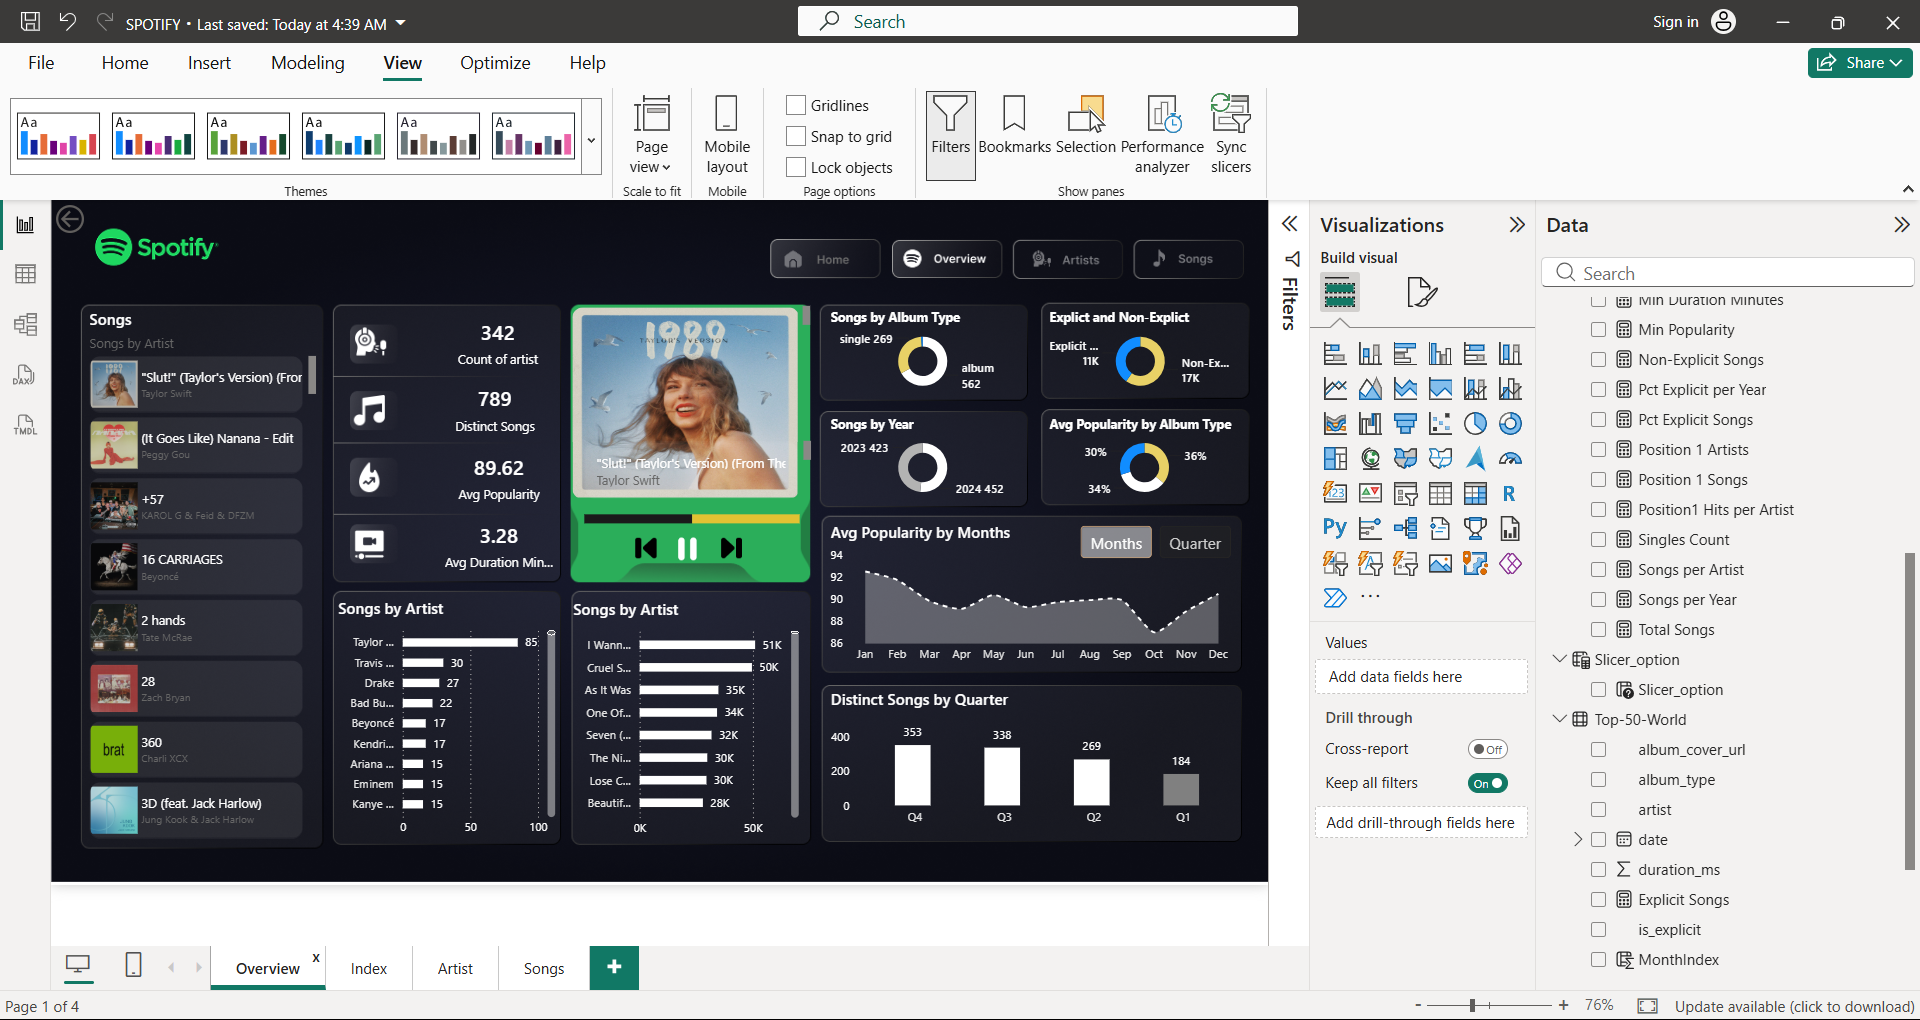

The page's visual inventory and layout, read from the dashboard file:
{"tool":"powerbi","page":{"name":"Overview","canvas":[1280,720],"ordinal":0},"visuals":[{"type":"clusteredBarChart","title":"Songs by Artist","fields":{"Category":["Top-50-World.artist"],"Y":["_Measures.Distinct Songs"]},"box":[297,417.8,238.3,260.1],"z":0},{"type":"clusteredBarChart","title":"Songs by Artist","fields":{"Y":["Sum(Top-50-World.popularity)"],"Category":["Top-50-World.song"]},"box":[544.1,419.8,247.3,259.4],"z":1000},{"type":"areaChart","fields":{"Y":["_Measures.Avg Popularity"],"Category":["Top-50-World.Months"]},"box":[815.4,338.1,431.3,157.9],"z":2000},{"type":"advancedSlicerVisual","fields":{"Values":["Slicer_option.Slicer_option"]},"box":[1077.6,338.1,169,44.7],"z":3000},{"type":"donutChart","title":"Songs by Album Type","fields":{"Category":["Top-50-World.album_type"],"Y":["_Measures.Distinct Songs"]},"box":[815.4,114.4,203.8,93.2],"z":4000},{"type":"donutChart","title":"Explict and Non-Explict","fields":{"Y":["_Measures.Non-Explicit Songs","Top-50-World.Explicit Songs"]},"box":[1045.3,114.4,201.4,93.2],"z":5000},{"type":"donutChart","title":"Songs by Year","fields":{"Category":["Top-50-World.Year"],"Y":["_Measures.Distinct Songs"]},"box":[815.4,226.2,203.8,93.2],"z":6000},{"type":"donutChart","title":"Avg Popularity by Album Type","fields":{"Category":["Top-50-World.album_type"],"Y":["_Measures.Avg Popularity"]},"box":[1045.3,226.2,210.1,93.2],"z":7000},{"type":"clusteredColumnChart","fields":{"Category":["Top-50-World.Qtr"],"Y":["_Measures.Distinct Songs"]},"box":[815.4,514.6,440,152.9],"z":8000},{"type":"card","fields":{"Values":["_Measures.Distinct Songs"]},"box":[406.4,184,121.8,70.8],"z":9000},{"type":"card","fields":{"Values":["Count(Top-50-World.artist)"]},"box":[406.4,114.4,128,69.6],"z":10000},{"type":"actionButton","box":[0,0,100,40],"z":11000},{"type":"card","fields":{"Values":["_Measures.Avg Duration Minutes"]},"box":[406.6,328.2,130.3,68.8],"z":12000},{"type":"card","fields":{"Values":["_Measures.Avg Popularity"]},"box":[406.4,254.8,130.5,73.3],"z":13000},{"type":"image","box":[317,275.9,46,31.1],"z":14000},{"type":"image","box":[317,343.1,36,39.8],"z":15000},{"type":"image","box":[317,205.1,36,32.3],"z":16000},{"type":"image","box":[318.2,133,36,32.3],"z":17000},{"type":"advancedSlicerVisual","title":"Songs","fields":{"Values":["Top-50-World.song"]},"box":[541.6,106.5,262.9,212.9],"z":18000},{"type":"advancedSlicerVisual","title":"Songs","fields":{"Values":["Top-50-World.song"]},"box":[556.2,248.5,248.5,71.2],"z":19000},{"type":"advancedSlicerVisual","title":"Songs","fields":{"Values":["Top-50-World.song"]},"box":[35,114.6,248.5,564.6],"z":20000},{"type":"image","box":[611.2,353.6,28.9,25],"z":21000},{"type":"image","box":[703.2,353.6,25,25],"z":22000},{"type":"image","box":[657.2,354.9,23.7,23.7],"z":23000},{"type":"hundredPercentStackedBarChart","fields":{"Y":["_Measures.Avg Popularity","_Measures.Avg Popularity Explicit"]},"box":[556,291.8,236.6,81.5],"z":24000},{"type":"actionButton","box":[755,39.4,115.7,40.7],"z":25000},{"type":"actionButton","box":[882.5,39.4,115.7,40.7],"z":26000},{"type":"actionButton","box":[1010,39.4,115.7,40.7],"z":27000},{"type":"actionButton","box":[1137.5,39.4,115.7,40.7],"z":28000}]}

Visuals, with their boxes on the page's 1280x720 design canvas (x1, y1, x2, y2). These are canvas units, not pixel positions in the 1920x1020 screenshot, which may show the page scaled, cropped or inside an application window:
"Songs by Artist" clusteredBarChart: x1=297, y1=418, x2=535, y2=678
"Songs by Artist" clusteredBarChart: x1=544, y1=420, x2=791, y2=679
areaChart - _Measures.Avg Popularity x Top-50-World.Months: x1=815, y1=338, x2=1247, y2=496
advancedSlicerVisual - Slicer_option.Slicer_option: x1=1078, y1=338, x2=1247, y2=383
"Songs by Album Type" donutChart: x1=815, y1=114, x2=1019, y2=208
"Explict and Non-Explict" donutChart: x1=1045, y1=114, x2=1247, y2=208
"Songs by Year" donutChart: x1=815, y1=226, x2=1019, y2=319
"Avg Popularity by Album Type" donutChart: x1=1045, y1=226, x2=1255, y2=319
clusteredColumnChart - Top-50-World.Qtr x _Measures.Distinct Songs: x1=815, y1=515, x2=1255, y2=668
card - _Measures.Distinct Songs: x1=406, y1=184, x2=528, y2=255
card - Count(Top-50-World.artist): x1=406, y1=114, x2=534, y2=184
actionButton: x1=0, y1=0, x2=100, y2=40
card - _Measures.Avg Duration Minutes: x1=407, y1=328, x2=537, y2=397
card - _Measures.Avg Popularity: x1=406, y1=255, x2=537, y2=328
image: x1=317, y1=276, x2=363, y2=307
image: x1=317, y1=343, x2=353, y2=383
image: x1=317, y1=205, x2=353, y2=237
image: x1=318, y1=133, x2=354, y2=165
"Songs" advancedSlicerVisual: x1=542, y1=106, x2=804, y2=319
"Songs" advancedSlicerVisual: x1=556, y1=248, x2=805, y2=320
"Songs" advancedSlicerVisual: x1=35, y1=115, x2=284, y2=679
image: x1=611, y1=354, x2=640, y2=379
image: x1=703, y1=354, x2=728, y2=379
image: x1=657, y1=355, x2=681, y2=379
hundredPercentStackedBarChart - _Measures.Avg Popularity x _Measures.Avg Popularity Explicit: x1=556, y1=292, x2=793, y2=373
actionButton: x1=755, y1=39, x2=871, y2=80
actionButton: x1=882, y1=39, x2=998, y2=80
actionButton: x1=1010, y1=39, x2=1126, y2=80
actionButton: x1=1138, y1=39, x2=1253, y2=80
